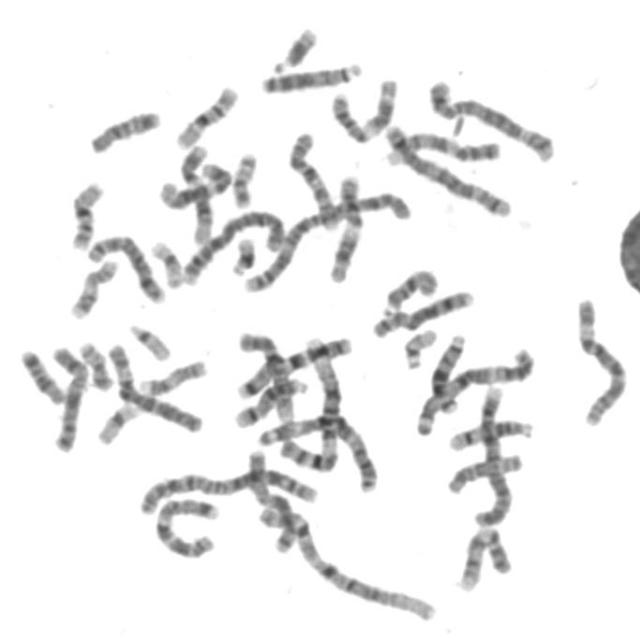A1: (253, 498, 439, 625), (278, 329, 350, 475)
A2: (238, 184, 414, 293), (133, 460, 322, 516)
A3: (408, 340, 538, 437), (253, 408, 380, 494)
B4: (177, 203, 289, 287), (468, 379, 514, 530)
B5: (380, 116, 514, 220), (422, 73, 558, 163)
C10: (282, 124, 342, 234), (232, 326, 298, 424)
C11: (325, 70, 401, 145), (324, 166, 366, 286)
C12: (175, 138, 218, 246), (153, 156, 234, 211)
C6: (102, 336, 205, 434), (568, 290, 630, 428)
C7: (232, 331, 356, 401), (149, 490, 222, 560)
C8: (80, 227, 168, 305), (365, 282, 477, 340)
C9: (379, 121, 504, 168), (452, 520, 514, 594)
D13: (255, 54, 363, 96), (428, 329, 470, 415)
D14: (229, 371, 310, 429), (443, 413, 538, 452)
D15: (442, 446, 526, 497), (377, 262, 441, 316)
E16: (170, 78, 242, 152), (64, 174, 107, 251)
E17: (64, 252, 121, 320), (135, 352, 210, 397)
E18: (83, 103, 163, 155), (13, 342, 68, 405)
F19: (91, 395, 142, 447), (145, 233, 185, 290)
F20: (72, 333, 115, 392), (226, 144, 260, 209)
G21: (266, 19, 322, 74), (225, 230, 259, 276)
G22: (123, 316, 174, 362), (398, 322, 441, 371)
X: (240, 443, 302, 555), (45, 338, 91, 453)
